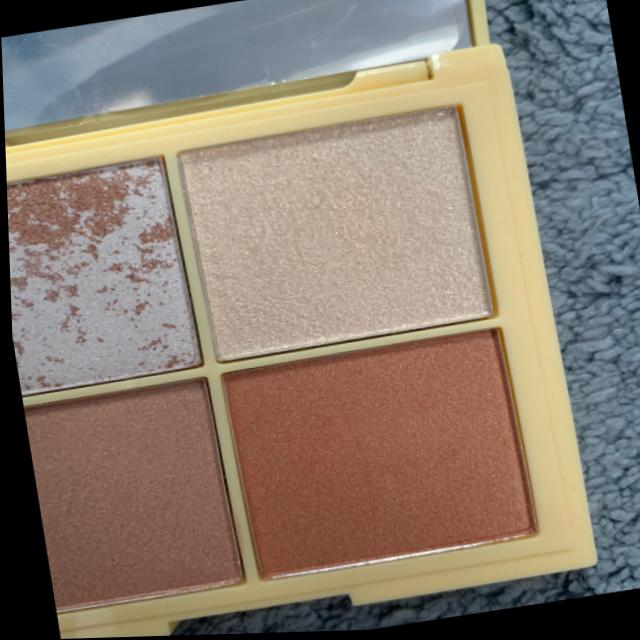highlighter: (3, 82, 532, 637)
